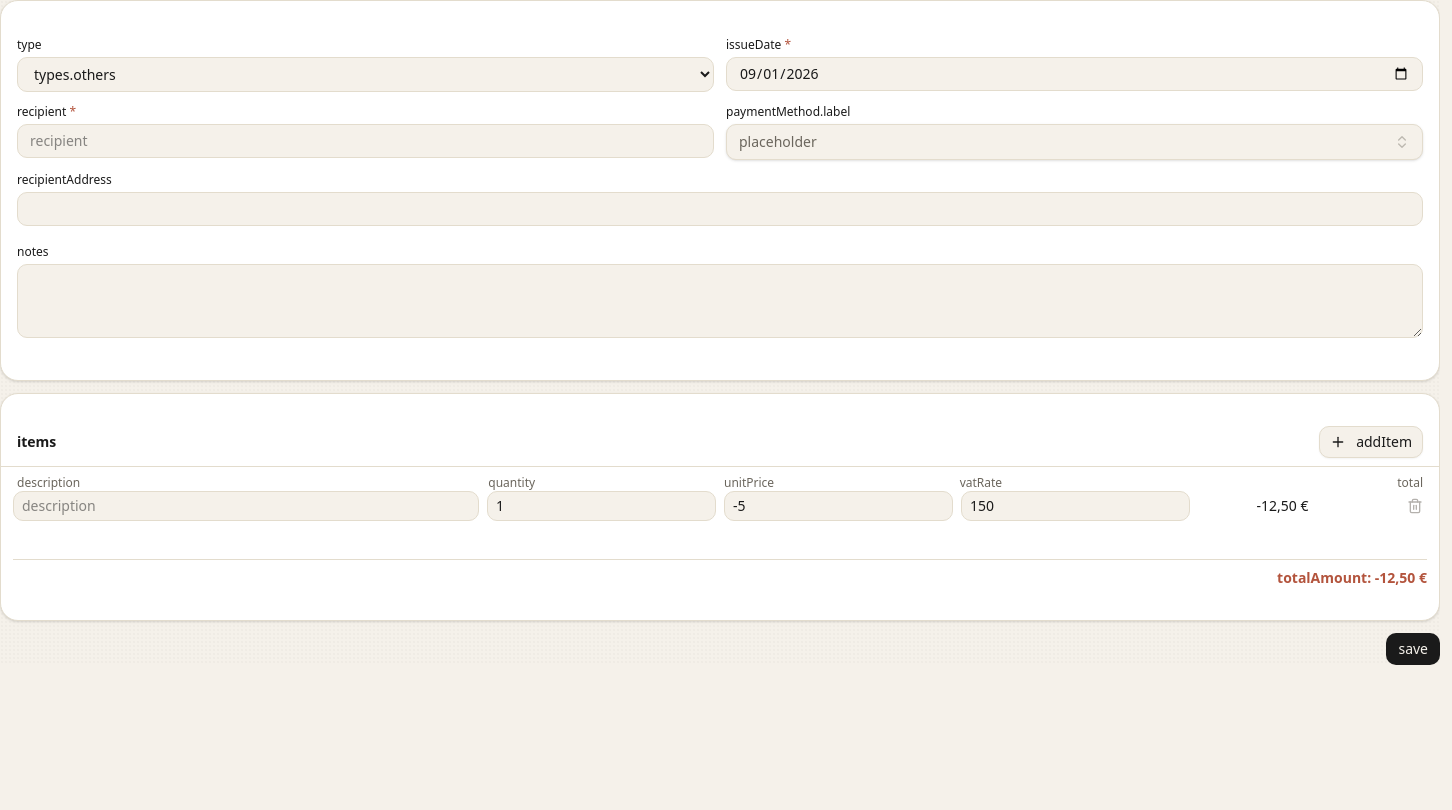
Test case: InvoiceForm — field errors › drops a field's error once it is edited
Submit the form
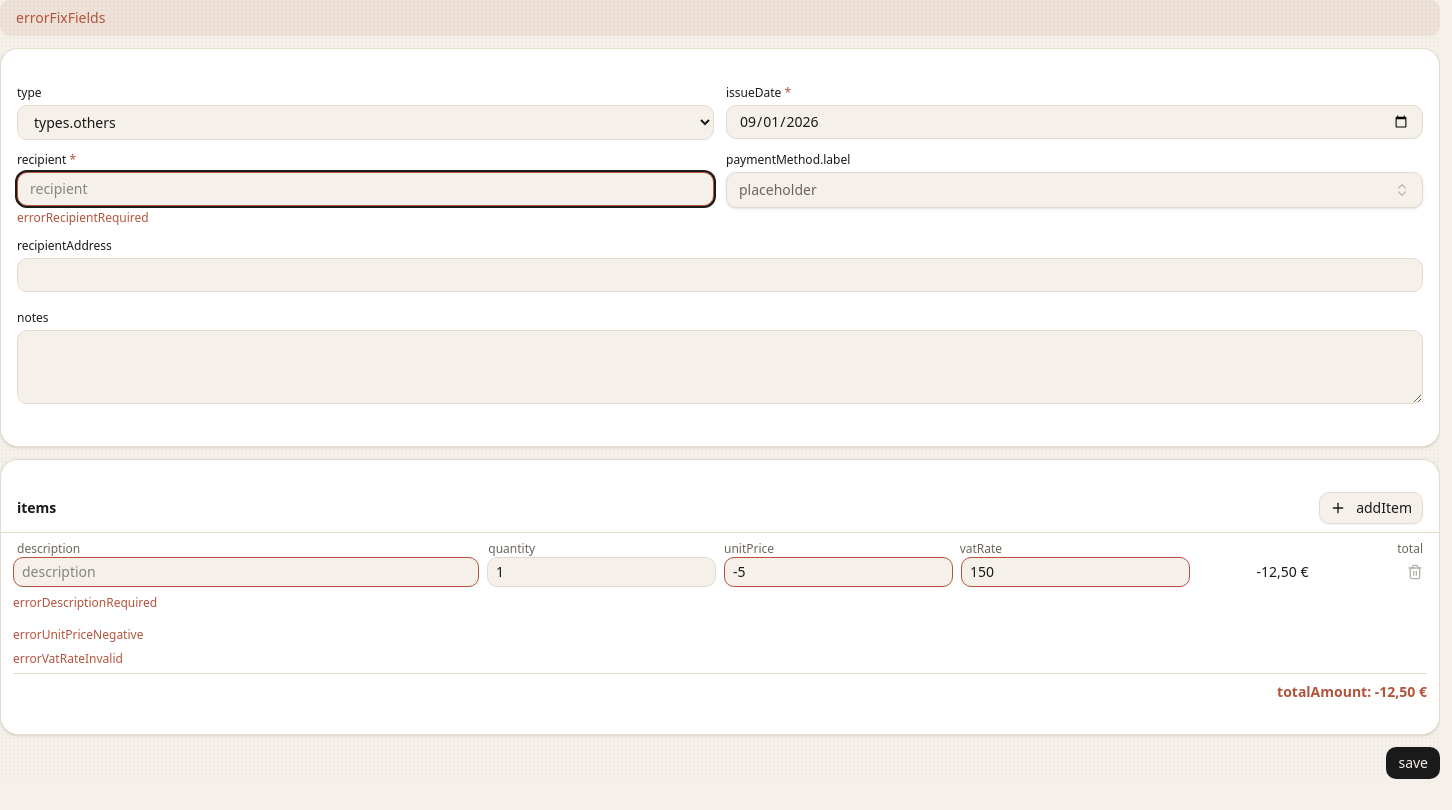
Type "Total" into the field with id "invoice-recipient" at (366, 189), box 17,172 -> 714,206
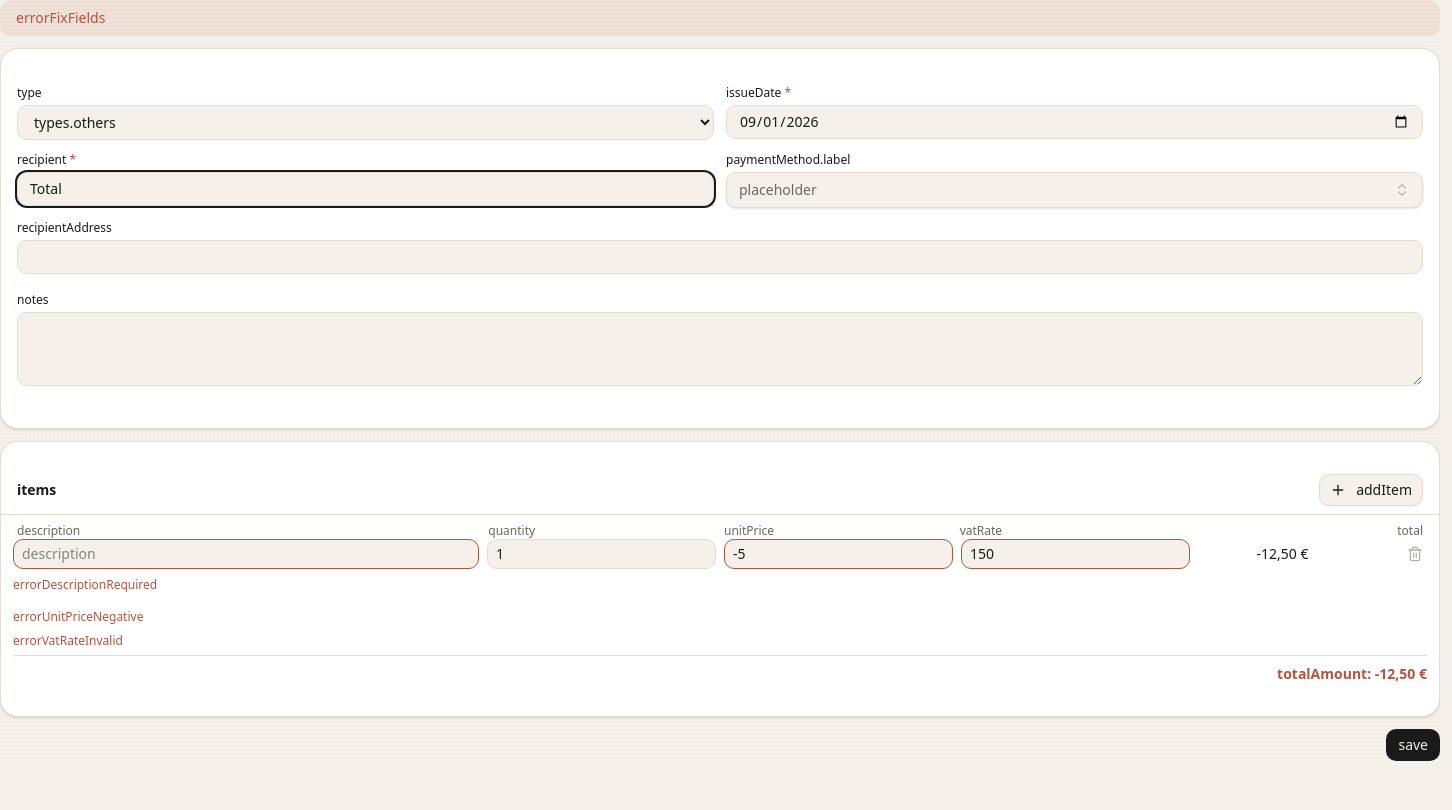
Check: the text "errorDescriptionRequired" is shown, box 13,576 -> 157,593
Check: the text "errorRecipientRequired" is gone
